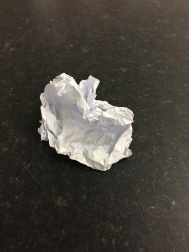paper_white: (26, 59, 148, 192)
